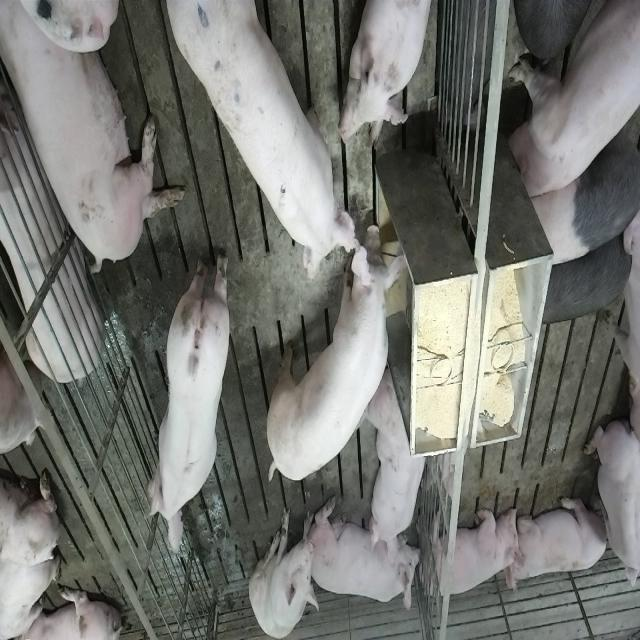Lateral_lying: (3, 0, 186, 273), (0, 69, 104, 390)
Sitting: (250, 503, 318, 638)
Standing: (162, 5, 362, 283), (264, 216, 404, 480), (144, 247, 232, 558), (505, 0, 638, 204), (528, 99, 638, 267), (534, 230, 630, 328)
Sternal_lying: (343, 0, 438, 146), (312, 500, 422, 616), (369, 367, 430, 554), (425, 501, 523, 603), (584, 416, 638, 600), (510, 492, 610, 588)
